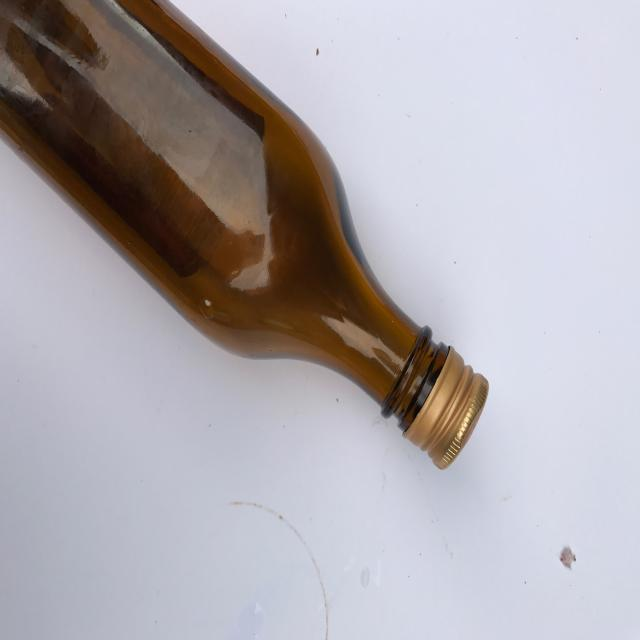glass: (0, 0, 491, 470)
